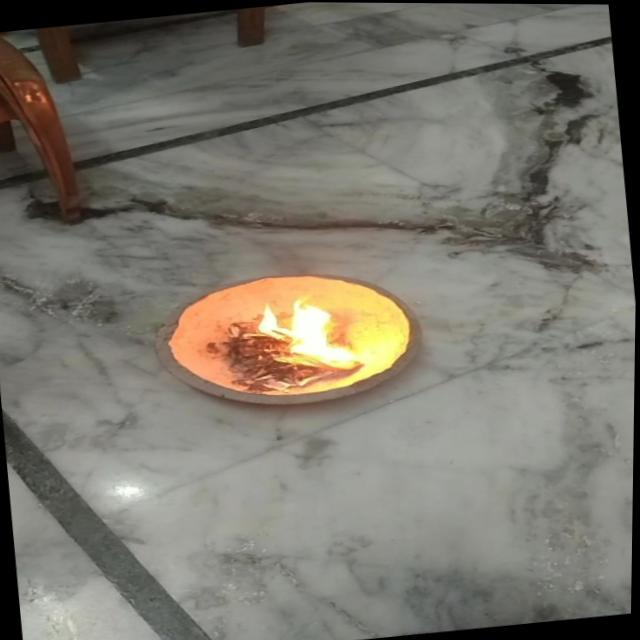fire: (251, 288, 363, 378)
